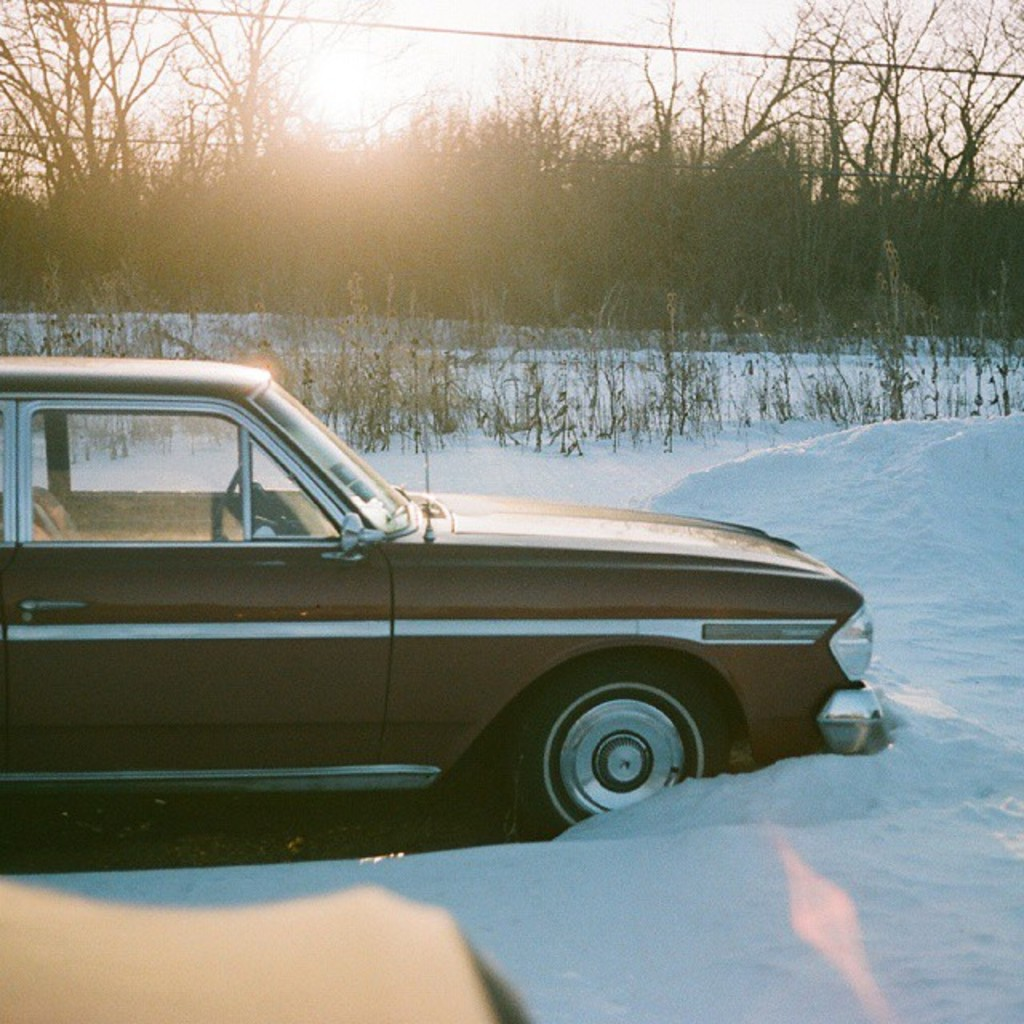Car: (0, 398, 862, 856)
